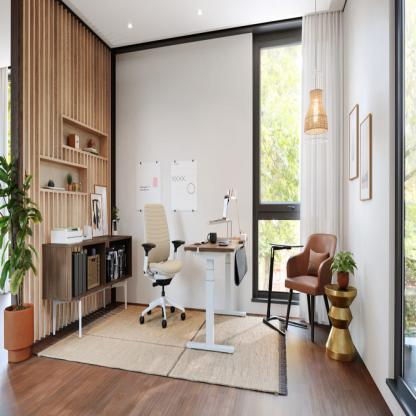chair: (137, 195, 191, 336), (282, 232, 338, 345)
light: (302, 0, 328, 144), (228, 185, 246, 239)
table: (42, 229, 130, 339), (183, 232, 254, 357)
